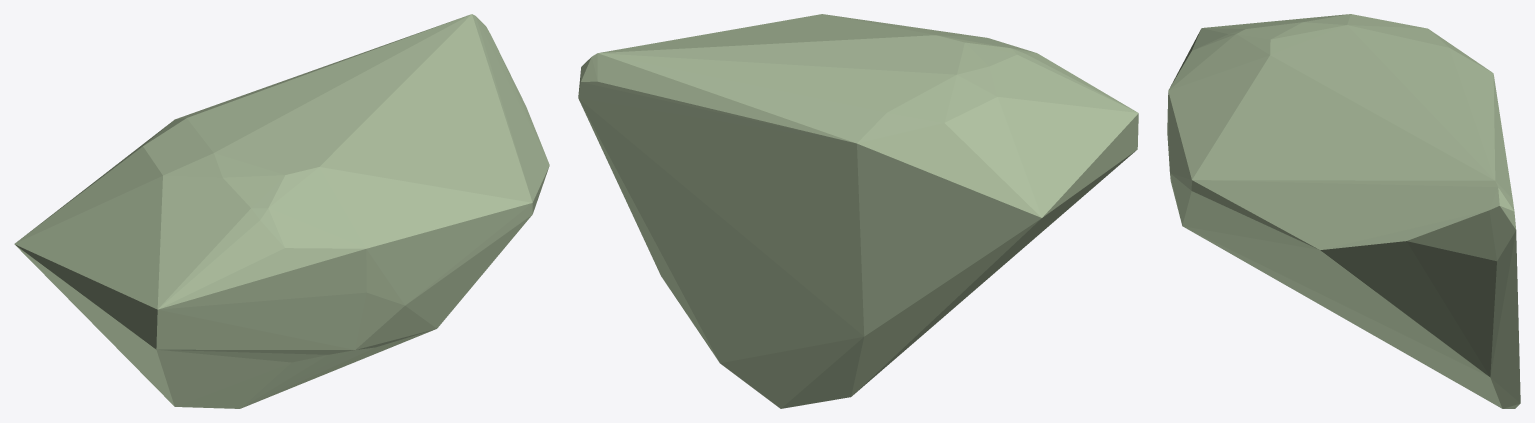
File: equipment_cord_reel_electric_a01.glb
3 renders of one model, left to right at view 1: azimuth 30°, elevation 25°; view 2: azimuth 150°, elevation 25°; view 3: azimuth 270°, elevation 25°, orthographic. The views are drawn at different scales.
Visible parts, largest first — view 1: geometry_0; view 2: geometry_0; view 3: geometry_0.
Boxes of the visible parts, bbox=[...] form: geometry_0: bbox=[14, 14, 549, 408]; geometry_0: bbox=[578, 14, 1138, 408]; geometry_0: bbox=[1167, 14, 1520, 408].
Bounding box in the file's own units: 0.4795 × 0.3184 × 0.3083.
